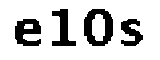0: (82, 6, 114, 49)
1: (49, 7, 79, 48)
e: (12, 19, 43, 49)
s: (119, 18, 147, 50)
